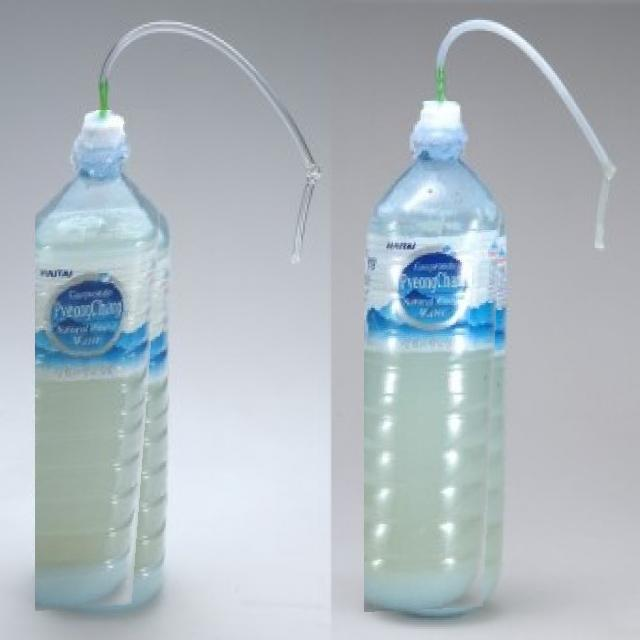plastic bottle: (364, 101, 506, 614), (36, 110, 170, 614)
